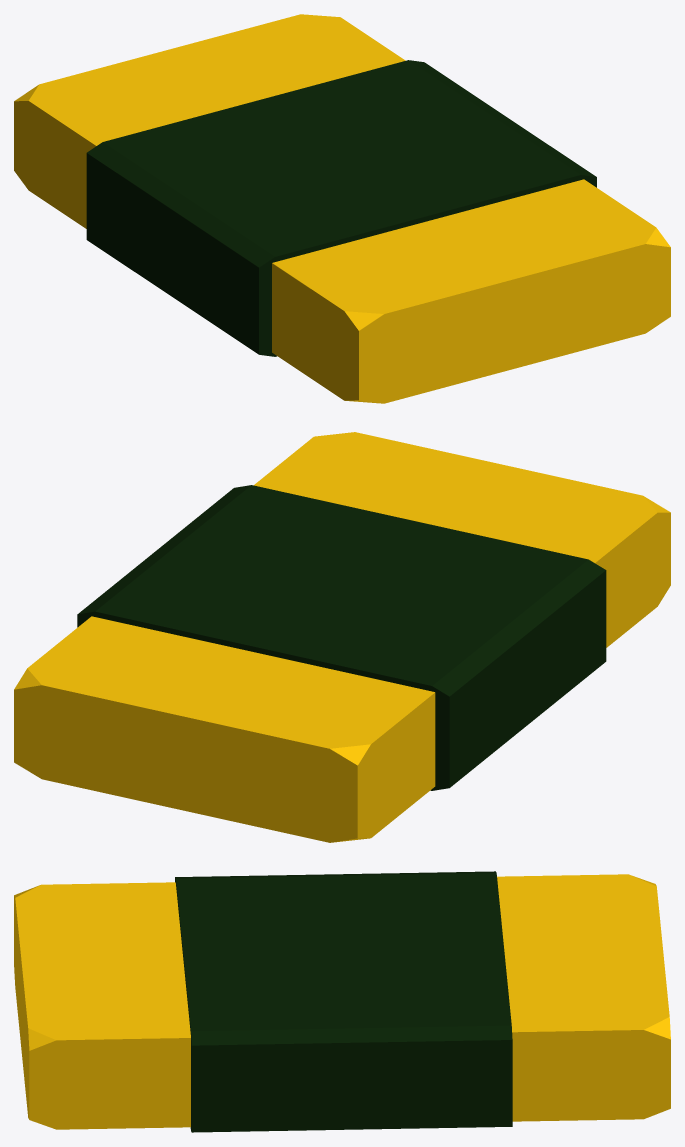
File: Objet Grange#5.FBX
3 views of the same model, one above another, from view 1: azimuth 30°, elevation 25°; view 2: azimuth 150°, elevation 25°; view 3: azimuth 270°, elevation 25° (orthographic). The views are drawn at different scales.
Parts seen in each view (by area): view 1: Carré de foin Grange03; view 2: Carré de foin Grange03; view 3: Carré de foin Grange03.
Boxes of the visible parts, bbox=[...] form: Carré de foin Grange03: bbox=[14, 14, 670, 403]; Carré de foin Grange03: bbox=[14, 432, 670, 842]; Carré de foin Grange03: bbox=[14, 871, 670, 1132].
Size of the model in its own units: 116 by 30.9 by 184.
